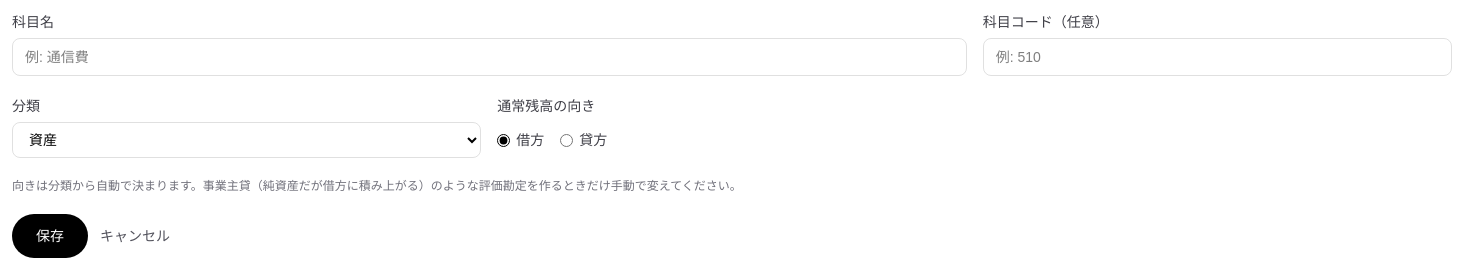
Test: AccountForm › 分類を変えると向きが既定に追従する
The width and height of the screenshot is (1464, 275).
# 資産（借方）→ 収益（貸方）
Select "収益" in the dropdown labelled "分類" at (247, 140), box [12,122,481,158]
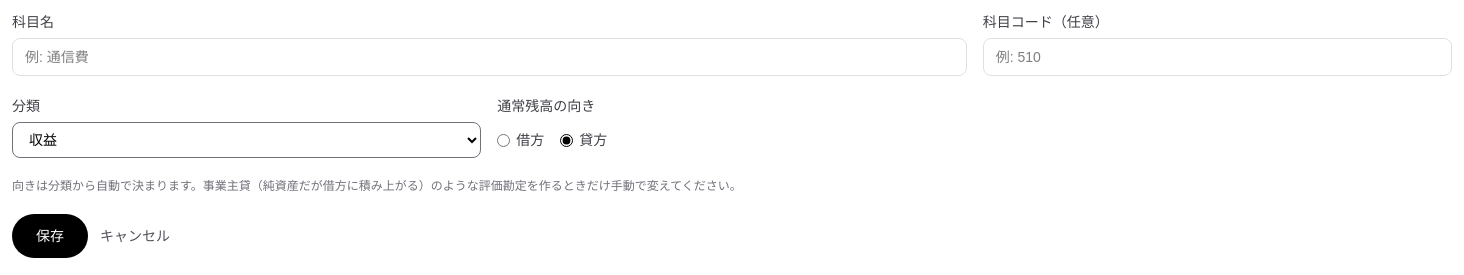
Expected: the radio button labelled "貸方" is checked, [560,134,573,146]
# 収益（貸方）→ 費用（借方）
Select "費用" in the dropdown labelled "分類" at (247, 140), box [12,122,481,158]
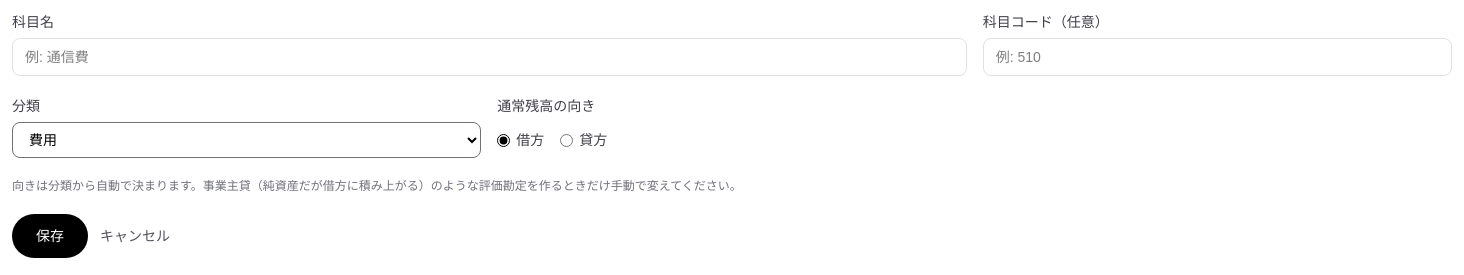
Expected: the radio button labelled "借方" is checked, [497,134,510,146]
